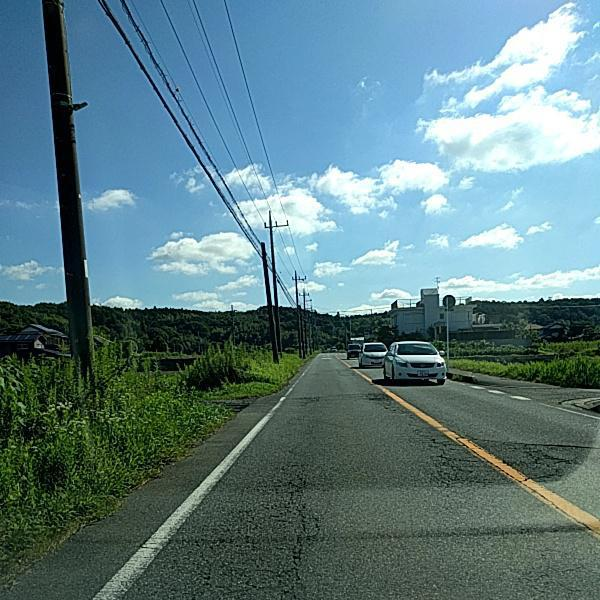D20: (428, 427, 593, 506), (238, 462, 323, 596)
